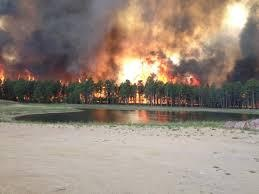fire: (114, 51, 186, 86)
